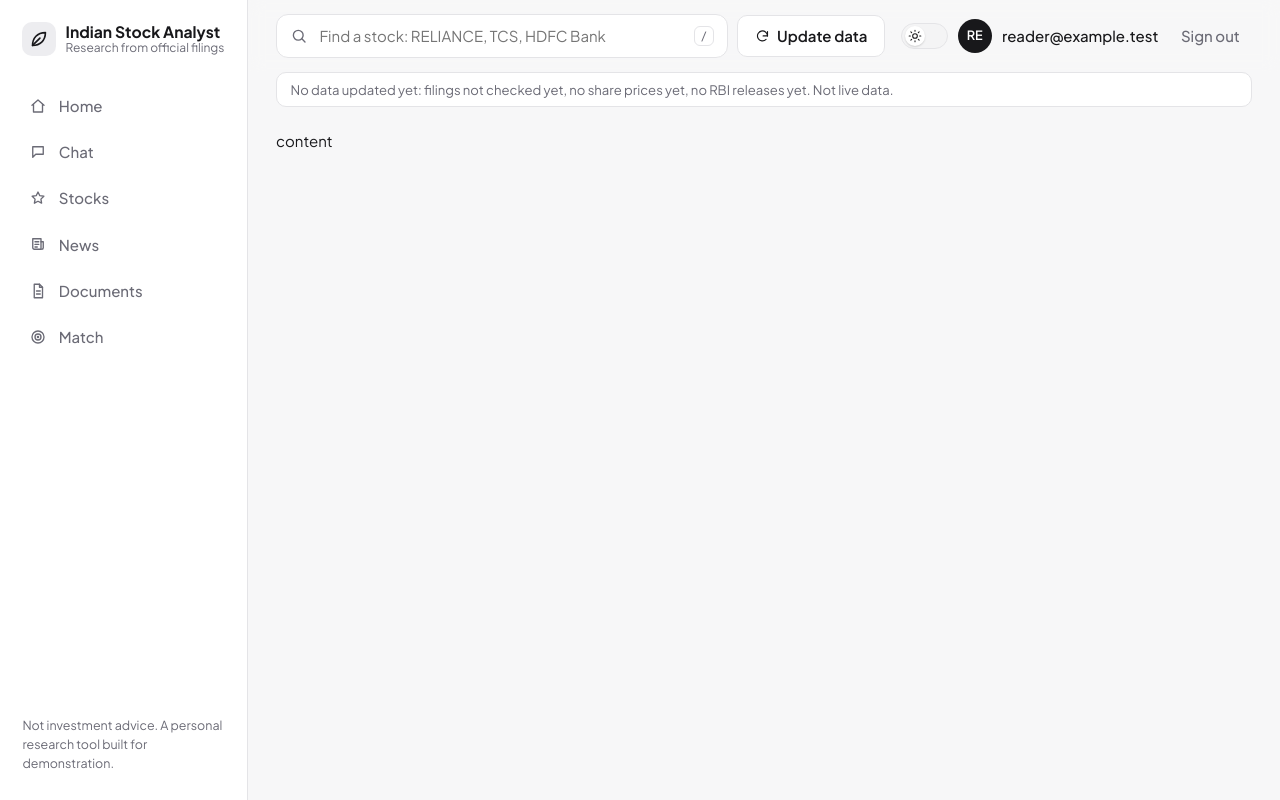
Test case: update data at most once an hour › says so when the server refuses a press within the hour
The width and height of the screenshot is (1280, 800).
Click the button "Update data" at (811, 36), box [737,15,885,57]
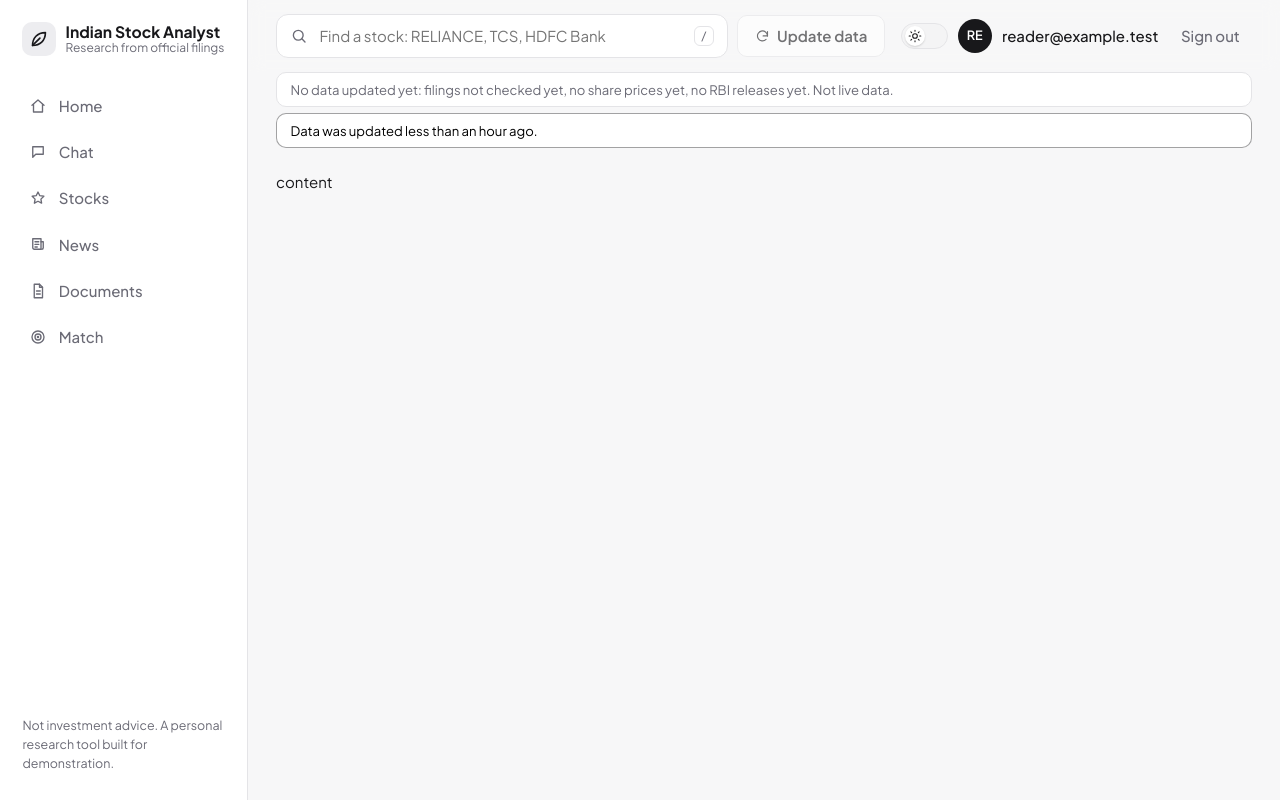
Now the text "Data was updated less than an hour ago." is shown, box [276,113,1252,148]
Now the button "Update data" is disabled, box [737,15,885,57]
